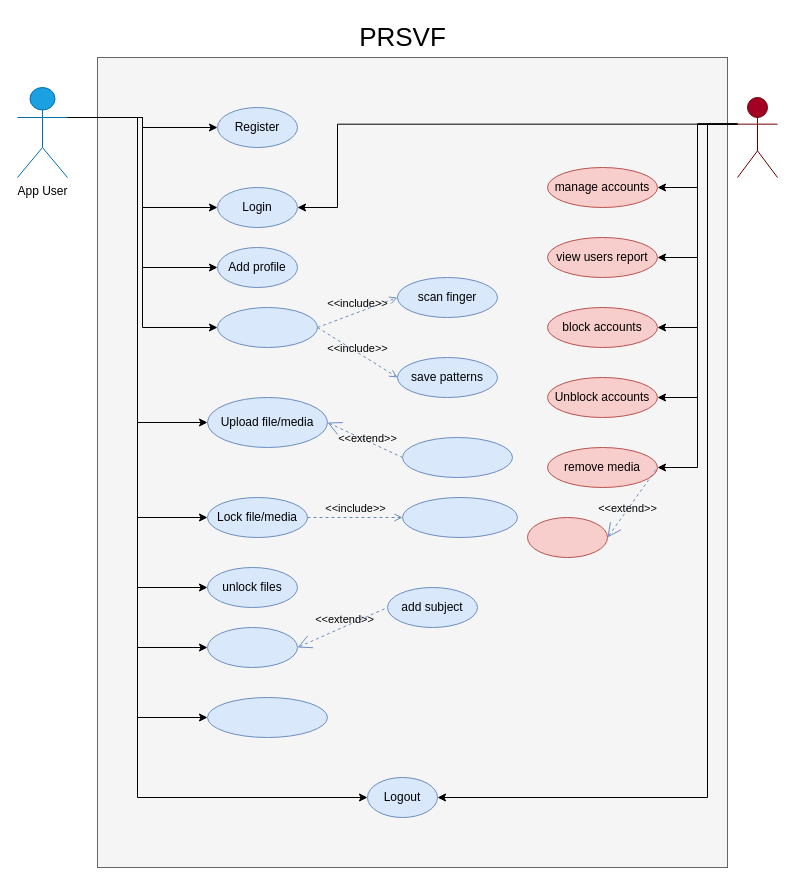
Image size: 795x885. Some labels were removed from this diagram. The shapes that lost their labels are listed below. From the top down, each one's centre as x and y in pixels, then its label:
the point at 757,137: Admin
the point at 267,327: add fingerprint
the point at 457,457: add description
the point at 460,517: enable fingerprint
the point at 567,537: notify user
the point at 252,647: Share files
the point at 267,717: Report/block User
